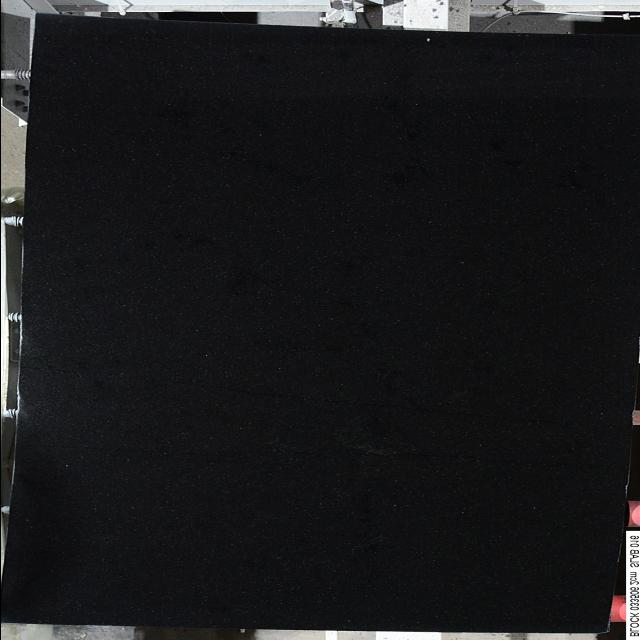chapa: (2, 15, 638, 632)
